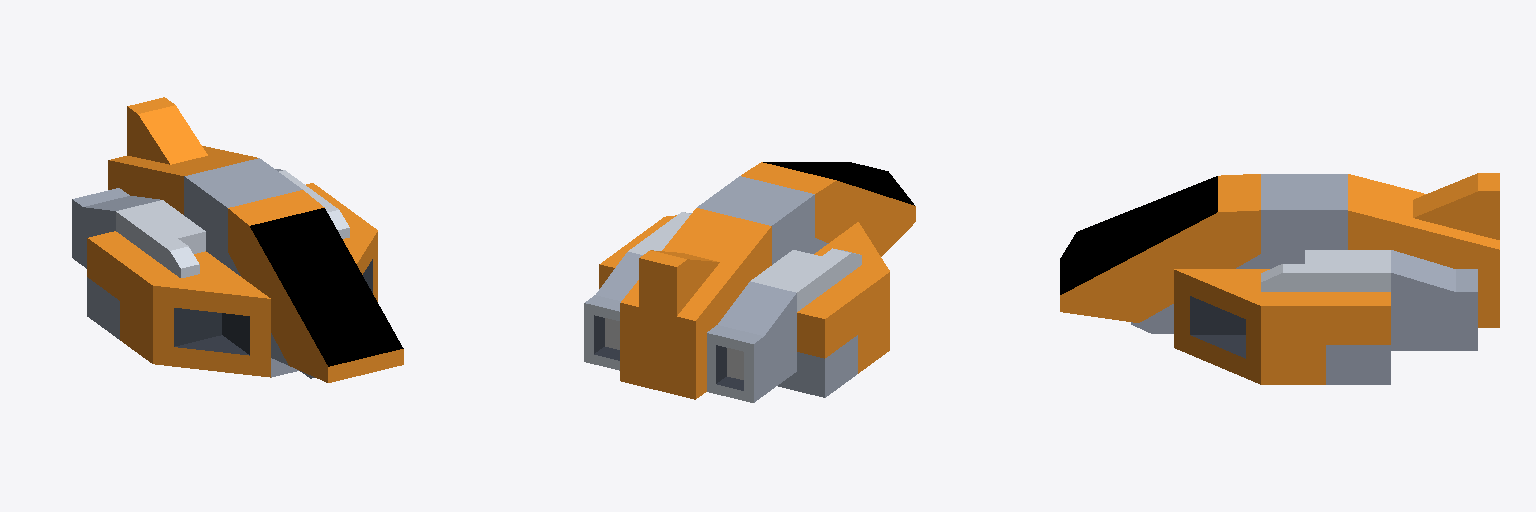
File: support.obj
3 views of the same model, side by side, from view 1: azimuth 30°, elevation 25°; view 2: azimuth 150°, elevation 25°; view 3: azimuth 270°, elevation 25° (orthographic).
Parts seen in each view (by area): view 1: craft_racer; view 2: craft_racer; view 3: craft_racer.
Boxes of the visible parts, x1,y1,x2,y2 form: craft_racer: [72, 97, 403, 382]; craft_racer: [584, 162, 915, 402]; craft_racer: [1060, 173, 1499, 384].
Bounding box in the file's own units: 1.2 × 0.75 × 2.03.